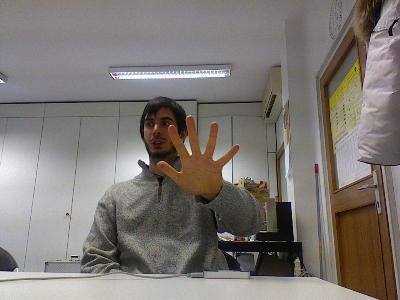布: (155, 114, 239, 196)
